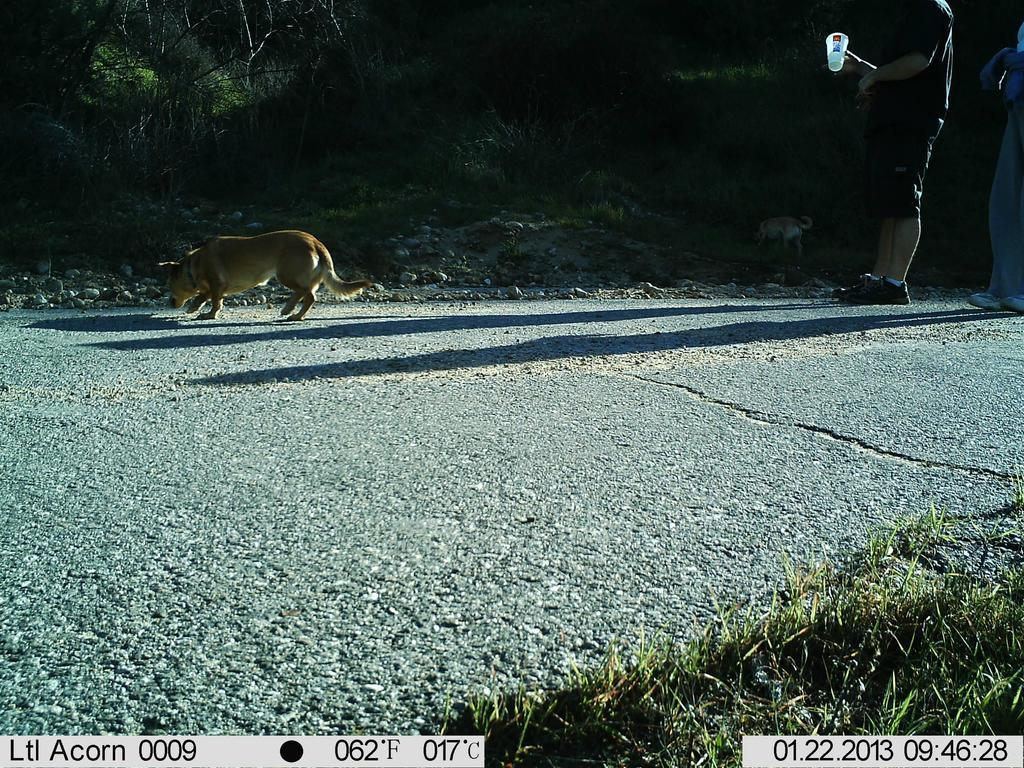dog: (149, 205, 385, 332)
